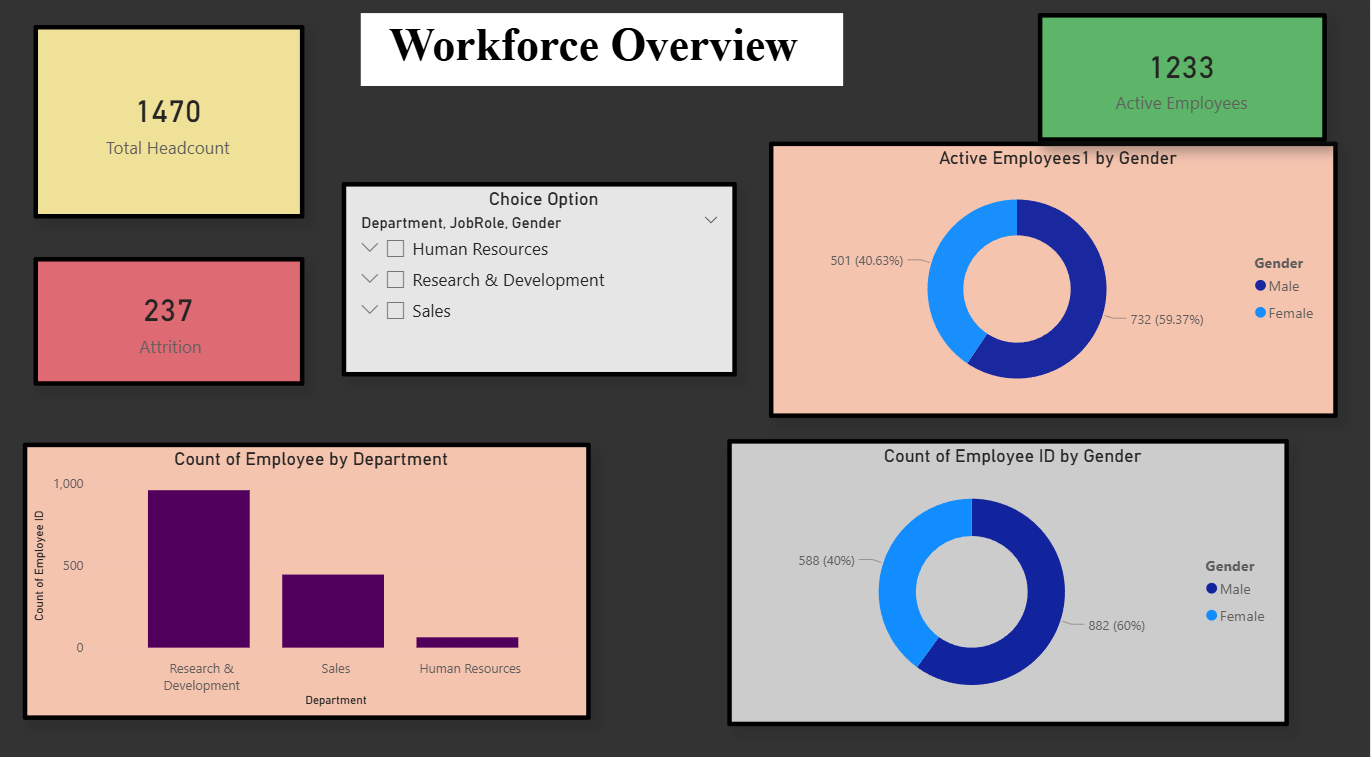

This screenshot's page, from the dashboard's own definition file:
{"tool":"powerbi","page":{"name":"Page 1","canvas":[1280,720],"ordinal":0},"visuals":[{"type":"card","fields":{"Values":["Sum(project2 data.Attrition)"]},"box":[32.2,240,253.3,120],"z":1},{"type":"clusteredColumnChart","title":"Count of Employee by Department","fields":{"Category":["project2 data.Department"],"Y":["Count(project2 data.Employee ID)"]},"box":[22.2,413.3,530,258.9],"z":2},{"type":"donutChart","fields":{"Category":["project2 data.Gender"],"Y":["CountNonNull(project2 data.Employee ID)"]},"box":[680,410,524.4,267.8],"z":3},{"type":"slicer","title":"Choice Option","fields":{"Values":["project2 data.Department","project2 data.JobRole","project2 data.Gender"]},"box":[320,170,368.9,181.1],"z":4},{"type":"donutChart","fields":{"Category":["project2 data.Gender"],"Y":["project2 data.Active Employees1"]},"box":[718.9,132.2,531.1,257.8],"z":5},{"type":"card","fields":{"Values":["project2 data.Active Employees1"]},"box":[970,12.2,270,120],"z":6},{"type":"textbox","box":[337.8,12.2,450,67.8],"z":7},{"type":"card","fields":{"Values":["project2 data.Headcount"]},"box":[32,23,253,181],"z":8}]}

Visuals, with their boxes in screenshot pixels (x1, y1, x2, y2), scaled from the page's 1280x720 canvas onto the 1371x757 screenshot:
card - Sum(project2 data.Attrition): left=34, top=252, right=306, bottom=378
"Count of Employee by Department" clusteredColumnChart: left=24, top=435, right=591, bottom=707
donutChart - project2 data.Gender x CountNonNull(project2 data.Employee ID): left=728, top=431, right=1290, bottom=713
"Choice Option" slicer: left=343, top=179, right=738, bottom=369
donutChart - project2 data.Gender x project2 data.Active Employees1: left=770, top=139, right=1339, bottom=410
card - project2 data.Active Employees1: left=1039, top=13, right=1328, bottom=139
textbox: left=362, top=13, right=844, bottom=84
card - project2 data.Headcount: left=34, top=24, right=305, bottom=214
